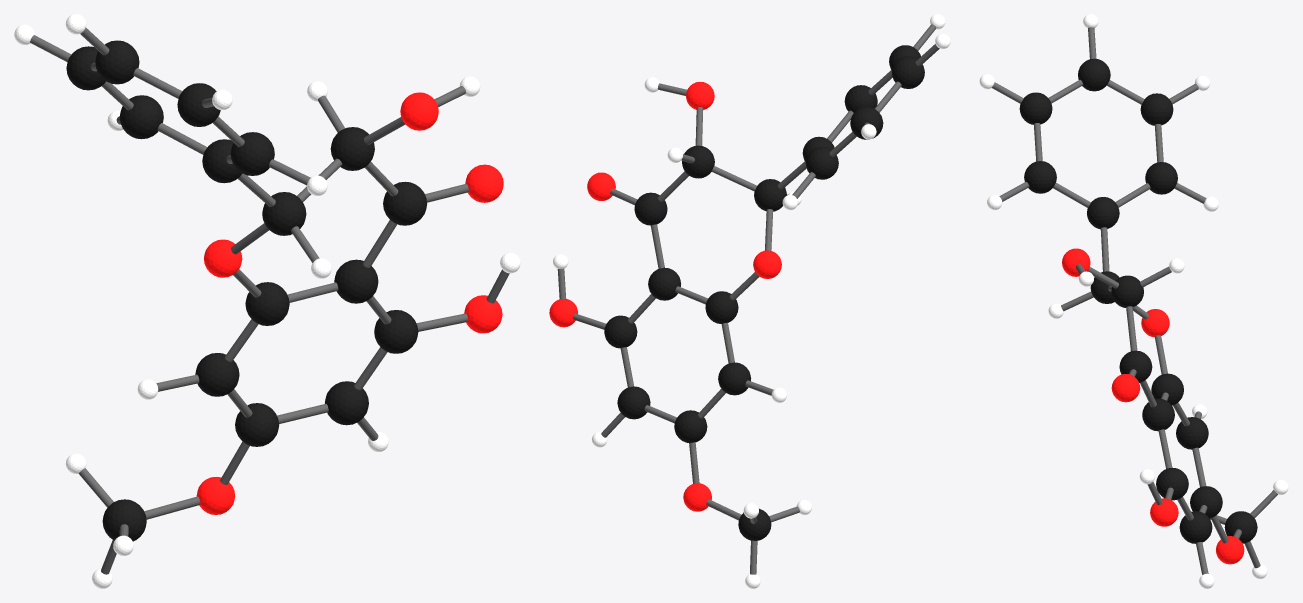
File: molecule.glb
3 views of the same model, side by side, from view 1: azimuth 30°, elevation 25°; view 2: azimuth 150°, elevation 25°; view 3: azimuth 270°, elevation 25° (orthographic). The views are drawn at different scales.
Visible parts, largest first — view 1: geometry_6, geometry_3, geometry_8, geometry_19, geometry_7, geometry_14, geometry_2, geometry_4, geometry_12, geometry_16, geometry_17, geometry_10 (+9 smaller); view 2: geometry_2, geometry_4, geometry_7, geometry_8, geometry_3, geometry_6, geometry_19, geometry_14, geometry_12, geometry_10, geometry_17, geometry_0 (+7 smaller); view 3: geometry_16, geometry_12, geometry_13, geometry_15, geometry_11, geometry_14, geometry_17, geometry_3, geometry_6, geometry_8, geometry_4, geometry_2 (+9 smaller).
Boxes of the visible parts, x1,y1,x2,y2 form: geometry_6: (334,259,378,303); geometry_3: (325,381,368,425); geometry_8: (195,353,239,396); geometry_19: (383,181,427,225); geometry_7: (245,282,289,325); geometry_14: (95,40,139,84); geometry_2: (235,403,279,446); geometry_4: (374,310,418,353); geometry_12: (119,95,163,139); geometry_16: (230,132,274,175); geometry_17: (330,127,374,170); geometry_10: (262,192,306,235); geometry_2: (674,410,707,442); geometry_4: (604,315,637,348); geometry_7: (705,291,738,323); geometry_8: (718,362,751,395); geometry_3: (617,386,650,419); geometry_6: (648,267,680,300); geometry_19: (634,192,667,225); geometry_14: (892,56,924,88); geometry_12: (805,147,838,179); geometry_10: (754,179,786,211); geometry_17: (682,145,714,178); geometry_0: (738,508,771,540); geometry_16: (1024,161,1056,193); geometry_12: (1145,162,1177,194); geometry_13: (1140,93,1173,125); geometry_15: (1019,92,1052,124); geometry_11: (1087,197,1119,229); geometry_14: (1078,58,1110,91); geometry_17: (1111,275,1143,307); geometry_3: (1179,511,1212,543); geometry_6: (1142,398,1174,431); geometry_8: (1176,417,1208,449); geometry_4: (1156,467,1188,500); geometry_2: (1190,486,1222,518).
Size of the model in its own units: 0.191 by 0.257 by 0.1403.
